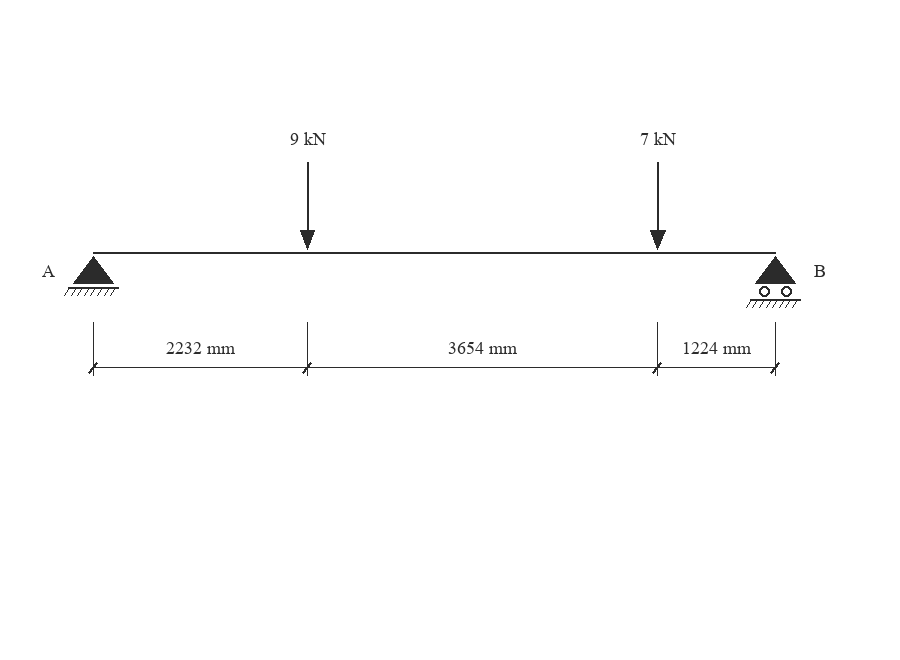pin_support: (64, 256, 119, 296)
point_load: (650, 162, 666, 250), (300, 162, 315, 250)
roller_support: (746, 256, 801, 308)
